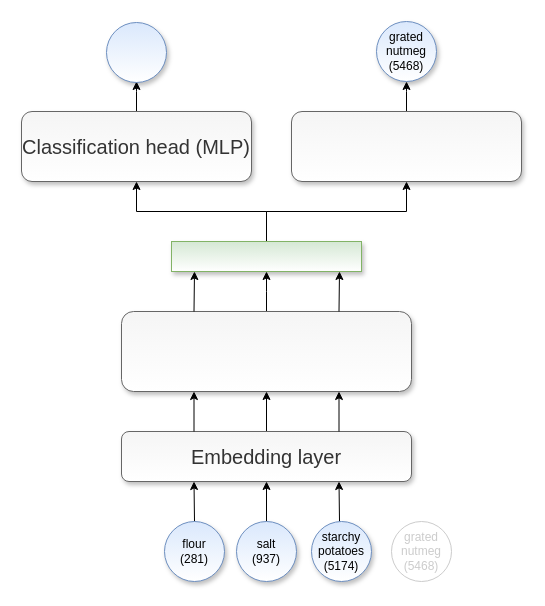
This 545x606 diagram has some shape labels left out. Here are the shapes that lost their labels. From the top down, the centre of each, then its label:
At pixel 137 54: "Italian".
At pixel 407 147: "Completion head (MLP)".
At pixel 267 257: "Average".
At pixel 267 352: "Transformer".
